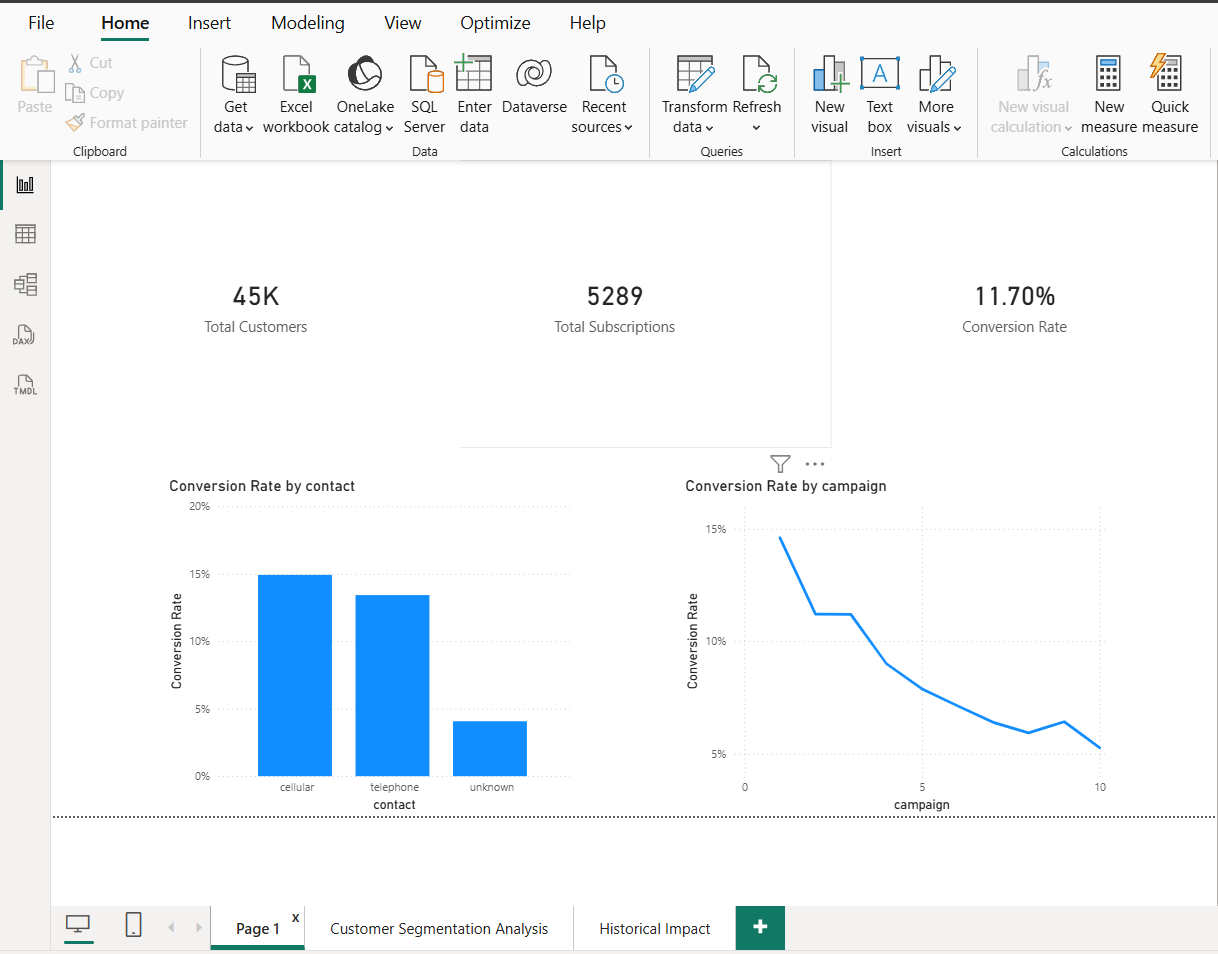

The dashboard page shown, as its layout file describes it:
{"tool":"powerbi","page":{"name":"Page 1","canvas":[1280,720],"ordinal":0},"visuals":[{"type":"card","fields":{"Values":["raw_bank_marketing.Total Subscriptions"]},"box":[381.5,0,474.8,315.6],"z":1000},{"type":"clusteredColumnChart","fields":{"Category":["raw_bank_marketing.contact"],"Y":["raw_bank_marketing.Conversion Rate"]},"box":[124.9,347.2,450.1,373.2],"z":2000},{"type":"lineChart","fields":{"Category":["raw_bank_marketing.campaign"],"Y":["raw_bank_marketing.Conversion Rate"]},"box":[691.6,347.2,474.8,373.2],"z":2001},{"type":"card","fields":{"Values":["raw_bank_marketing.Total Customers"]},"box":[0,0,450,315.6],"z":2002},{"type":"card","fields":{"Values":["raw_bank_marketing.Conversion Rate"]},"box":[907,0,301.9,315.6],"z":2003}]}

Visuals, with their boxes on the page's 1280x720 design canvas (x1, y1, x2, y2). These are canvas units, not pixel positions in the 1218x954 screenshot, which may show the page scaled, cropped or inside an application window:
card - raw_bank_marketing.Total Subscriptions: [382, 0, 856, 316]
clusteredColumnChart - raw_bank_marketing.contact x raw_bank_marketing.Conversion Rate: [125, 347, 575, 720]
lineChart - raw_bank_marketing.campaign x raw_bank_marketing.Conversion Rate: [692, 347, 1166, 720]
card - raw_bank_marketing.Total Customers: [0, 0, 450, 316]
card - raw_bank_marketing.Conversion Rate: [907, 0, 1209, 316]
